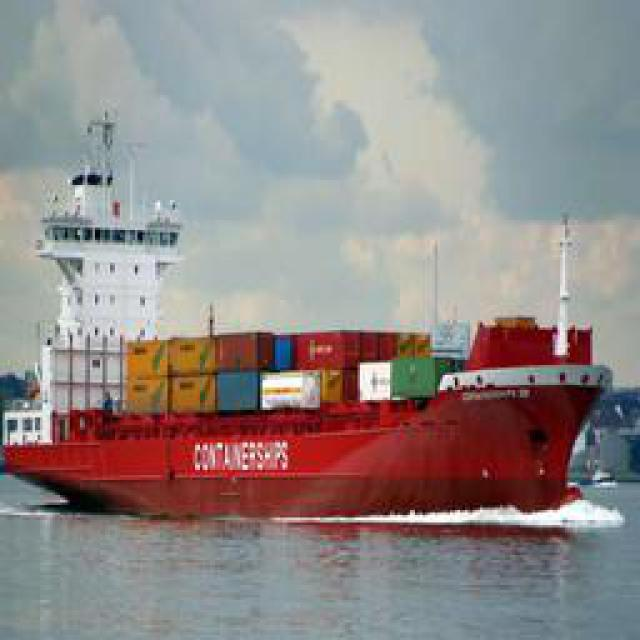Ship: (18, 264, 623, 524)
